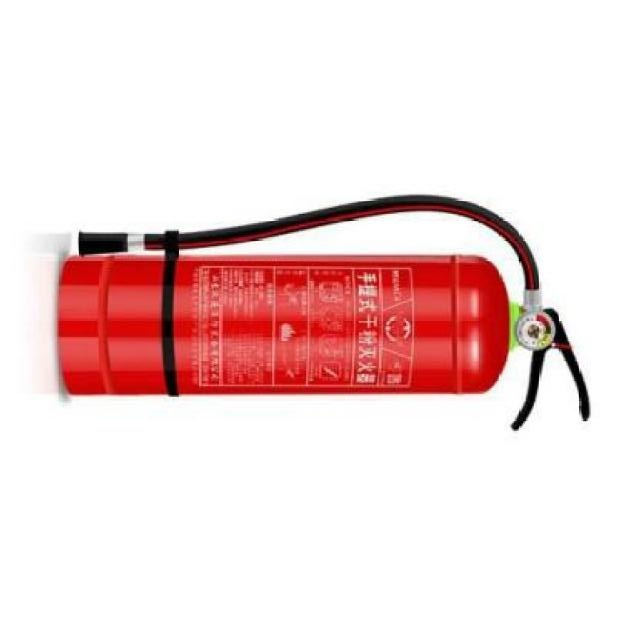fire extinguisher: (57, 194, 592, 432)
